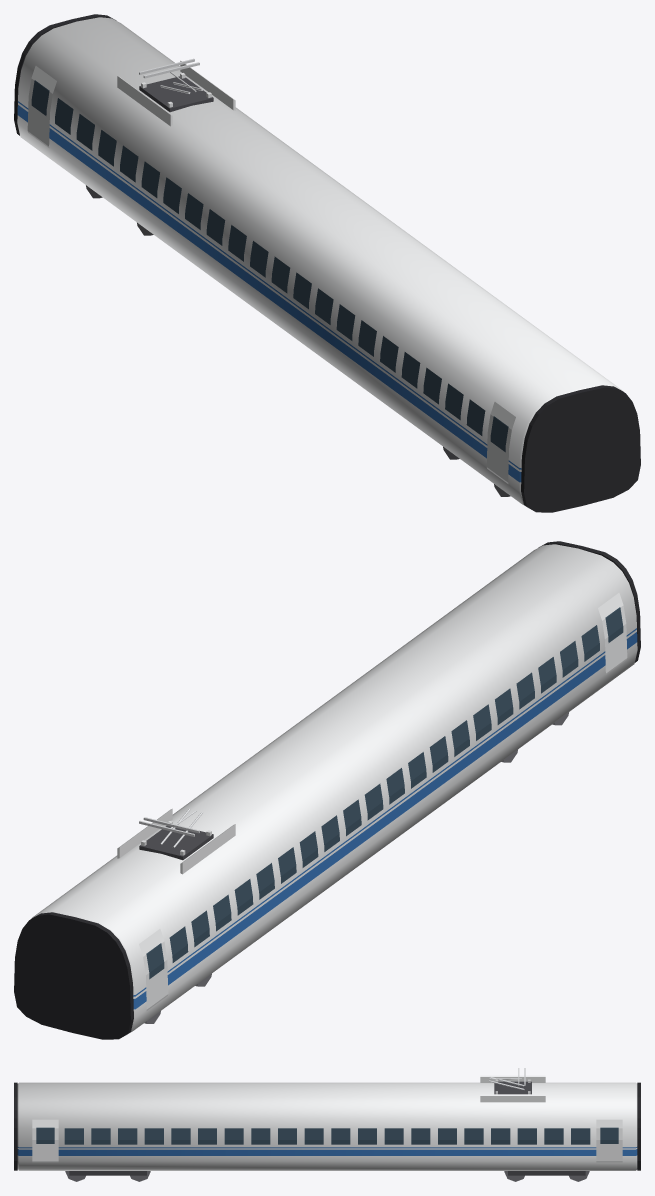
The model's file is middle.fbx.
3 views of the same model, one above another, from view 1: azimuth 30°, elevation 25°; view 2: azimuth 150°, elevation 25°; view 3: azimuth 270°, elevation 25° (orthographic). The views are drawn at different scales.
Parts seen in each view (by area): view 1: 23_middle; view 2: 23_middle; view 3: 23_middle.
Boxes of the visible parts, bbox=[...] form: 23_middle: bbox=[14, 14, 640, 512]; 23_middle: bbox=[14, 541, 640, 1039]; 23_middle: bbox=[14, 1068, 640, 1181].
Size of the model in its own units: 3.37 by 4.25 by 25.
